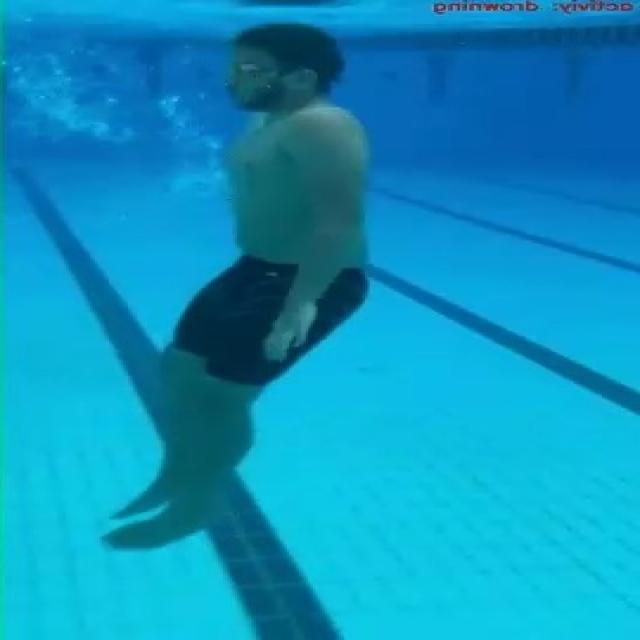drowning: (92, 7, 364, 565)
